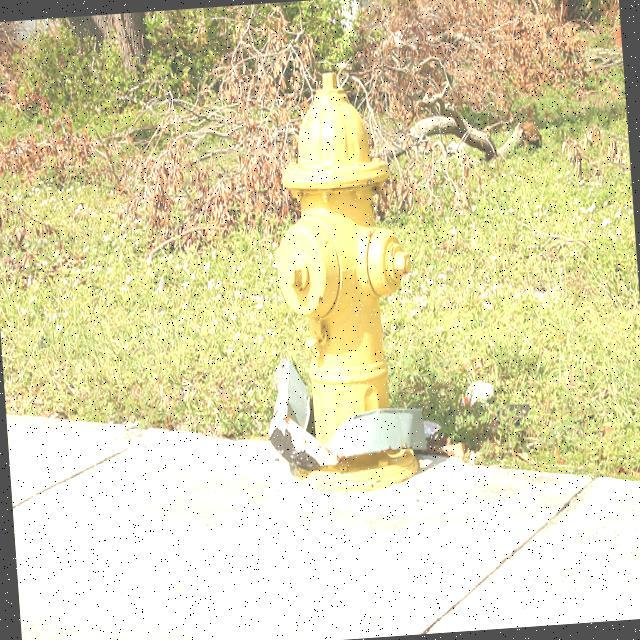fire_hydrant: (263, 64, 425, 453)
